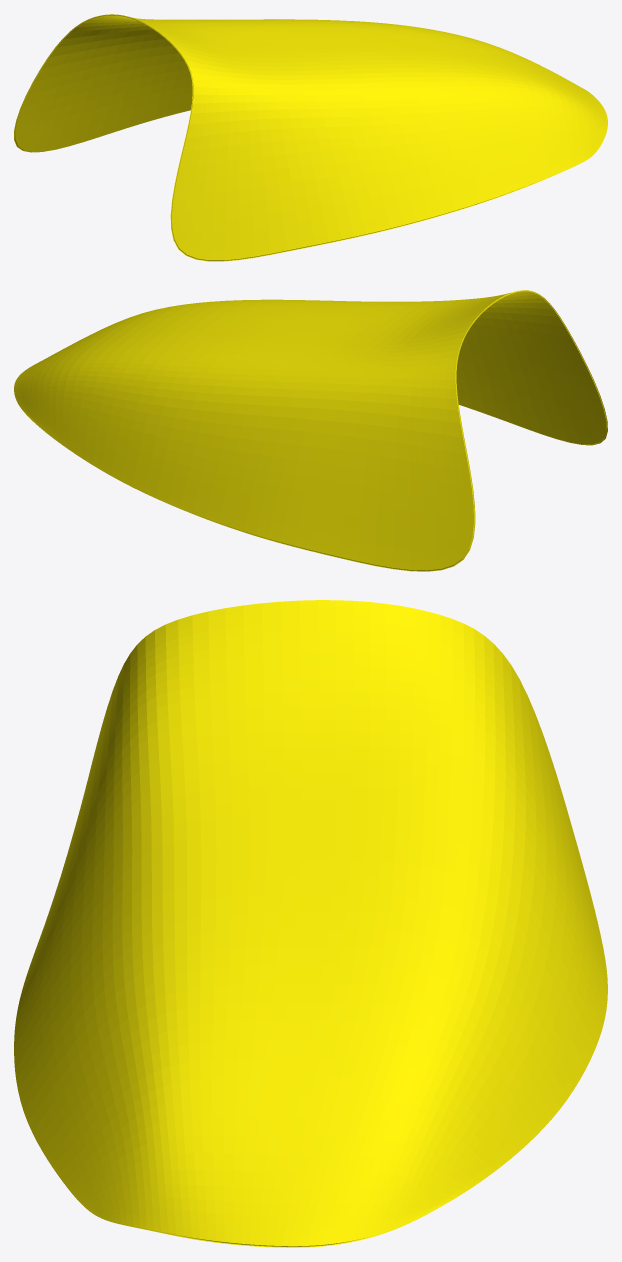
File: frontLeftYELLOW.obj
3 renders of one model, top to bottom at view 1: azimuth 30°, elevation 25°; view 2: azimuth 150°, elevation 25°; view 3: azimuth 270°, elevation 25°, orthographic. The views are drawn at different scales.
Parts seen in each view (by area): view 1: Plane; view 2: Plane; view 3: Plane.
Boxes of the visible parts, x1=… form: Plane: x1=14, y1=14, x2=607, y2=261; Plane: x1=14, y1=290, x2=607, y2=571; Plane: x1=14, y1=600, x2=607, y2=1247.
Size of the model in its own units: 15.97 by 5.59 by 9.72.
1 material, 1 textured.
